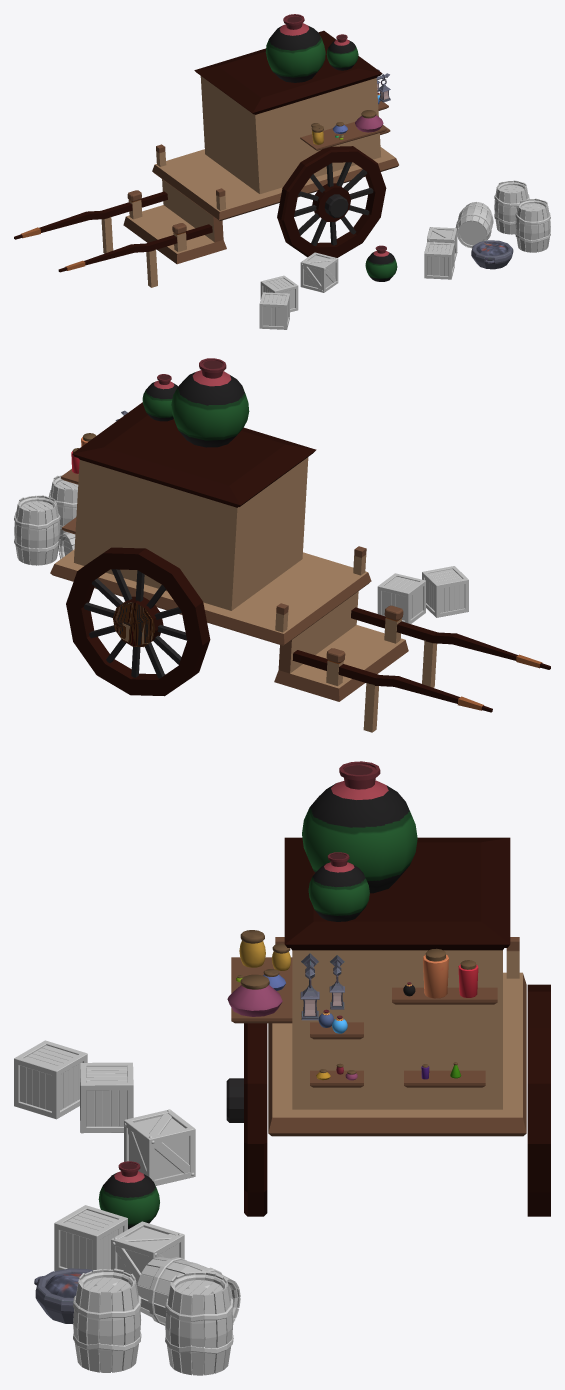
Rendered from LojaDePocoes.fbx.
3 renders of one model, top to bottom at view 1: azimuth 30°, elevation 25°; view 2: azimuth 150°, elevation 25°; view 3: azimuth 270°, elevation 25°, orthographic. The views are drawn at different scales.
Visible parts, largest first — view 1: Carroca, Pocoes, Barril 3, Barril, Barril 2, Caixa 4, Caixa 2, Caixa 3, Panela de cinzas, Caixa 5, Caixa 1; view 2: Carroca, Pocoes, Barril 2, Caixa 3, Caixa 5, Barril 3; view 3: Carroca, Pocoes, Barril 2, Barril 3, Caixa 3, Caixa 4, Caixa 5, Caixa 2, Caixa 1, Barril, Panela de cinzas, Lampião de parede 2.
Boxes of the visible parts, bbox=[...] form: Carroca: bbox=[14, 30, 398, 287]; Pocoes: bbox=[265, 14, 397, 281]; Barril 3: bbox=[515, 198, 550, 252]; Barril: bbox=[455, 202, 493, 248]; Barril 2: bbox=[494, 180, 529, 234]; Caixa 4: bbox=[300, 252, 338, 292]; Caixa 2: bbox=[424, 242, 454, 279]; Caixa 3: bbox=[259, 292, 289, 329]; Panela de cinzas: bbox=[471, 240, 513, 269]; Caixa 5: bbox=[260, 275, 298, 312]; Caixa 1: bbox=[427, 227, 457, 261]; Carroca: bbox=[50, 402, 550, 732]; Pocoes: bbox=[71, 358, 249, 473]; Barril 2: bbox=[14, 495, 60, 565]; Caixa 3: bbox=[422, 566, 468, 617]; Caixa 5: bbox=[377, 573, 425, 623]; Barril 3: bbox=[48, 475, 78, 534]; Carroca: bbox=[226, 837, 550, 1216]; Pocoes: bbox=[98, 761, 478, 1229]; Barril 2: bbox=[165, 1271, 233, 1375]; Barril 3: bbox=[73, 1268, 141, 1372]; Caixa 3: bbox=[14, 1040, 87, 1119]; Caixa 4: bbox=[124, 1109, 195, 1185]; Caixa 5: bbox=[80, 1062, 133, 1133]; Caixa 2: bbox=[54, 1205, 127, 1271]; Caixa 1: bbox=[111, 1221, 184, 1285]; Barril: bbox=[137, 1257, 240, 1325]; Panela de cinzas: bbox=[34, 1268, 92, 1323]; Lampião de parede 2: bbox=[300, 953, 319, 1020].
Size of the model in its own units: 577 by 281 by 317.
